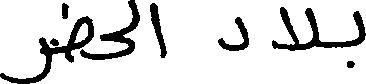X: (0, 32, 51, 83), (273, 2, 316, 55), (102, 0, 137, 64), (69, 11, 93, 67), (218, 12, 248, 55), (151, 0, 166, 62), (353, 6, 365, 71)
